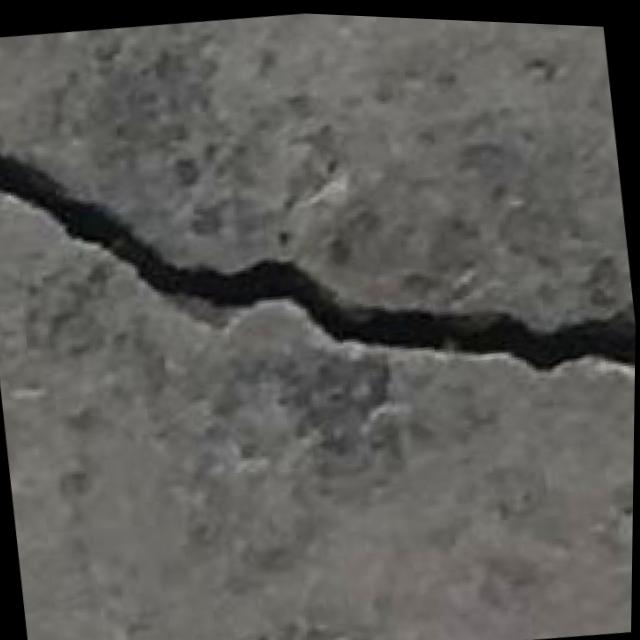Crack: (0, 42, 640, 444)
